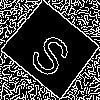S: (25, 24, 81, 81)
